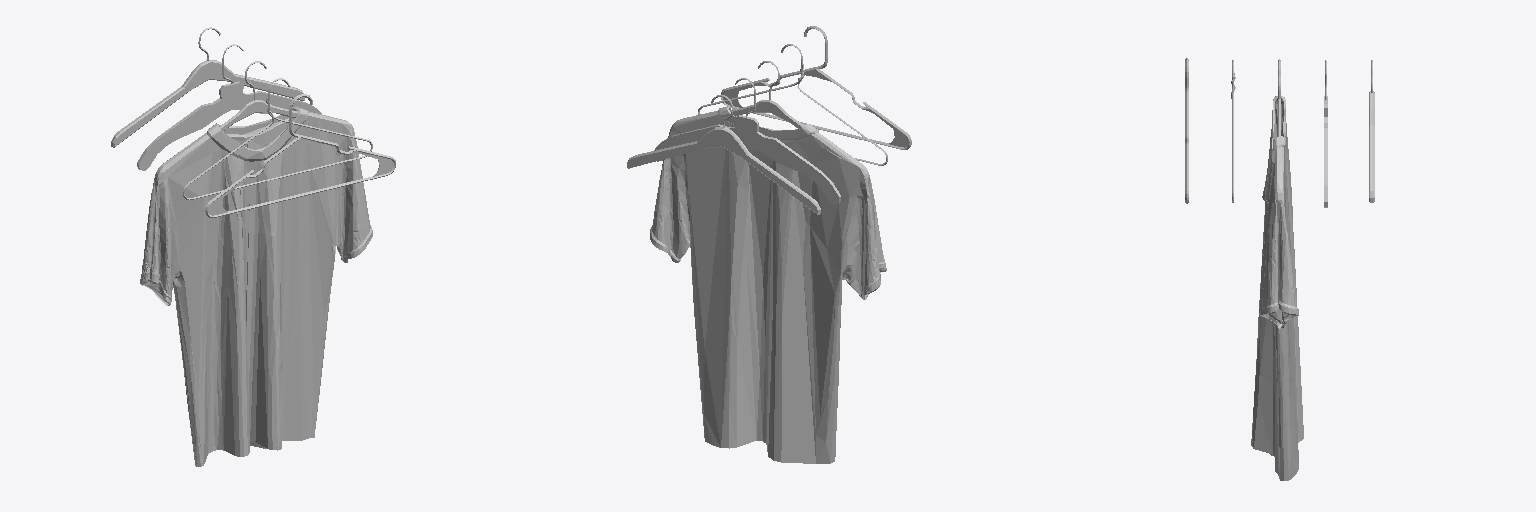
File: Tee Shirt Hangers.obj
3 renders of one model, left to right at view 1: azimuth 30°, elevation 25°; view 2: azimuth 150°, elevation 25°; view 3: azimuth 270°, elevation 25°, orthographic.
Visible parts, largest first — view 1: TeeShirt_Plane.007, Plane.003_Plane, Plane.007_Plane.002, BezierCurve.009_Plastic_Hanger.001, BezierCurve.010_Metal_Hook.001, Plane.006_Plane.001, Plane.010; view 2: TeeShirt_Plane.007, Plane.003_Plane, Plane.007_Plane.002, BezierCurve.009_Plastic_Hanger.001, Plane.006_Plane.001, Plane.010, BezierCurve.010_Metal_Hook.001; view 3: TeeShirt_Plane.007, Plane.007_Plane.002, BezierCurve.009_Plastic_Hanger.001.
Boxes of the visible parts, <box> form: TeeShirt_Plane.007: <box>140,107,372,466</box>; Plane.003_Plane: <box>137,81,321,170</box>; Plane.007_Plane.002: <box>111,60,304,147</box>; BezierCurve.009_Plastic_Hanger.001: <box>205,94,395,217</box>; BezierCurve.010_Metal_Hook.001: <box>183,78,372,199</box>; Plane.006_Plane.001: <box>208,138,393,215</box>; Plane.010: <box>219,100,297,130</box>; TeeShirt_Plane.007: <box>650,107,886,463</box>; Plane.003_Plane: <box>654,115,840,204</box>; Plane.007_Plane.002: <box>627,127,820,214</box>; BezierCurve.009_Plastic_Hanger.001: <box>721,26,911,149</box>; Plane.006_Plane.001: <box>723,70,908,147</box>; Plane.010: <box>730,100,803,128</box>; BezierCurve.010_Metal_Hook.001: <box>698,44,887,165</box>; TeeShirt_Plane.007: <box>1251,96,1303,480</box>; Plane.007_Plane.002: <box>1369,91,1374,202</box>; BezierCurve.009_Plastic_Hanger.001: <box>1185,58,1188,203</box>.
Bounding box in the file's own units: 5.68 × 9.36 × 4.1.